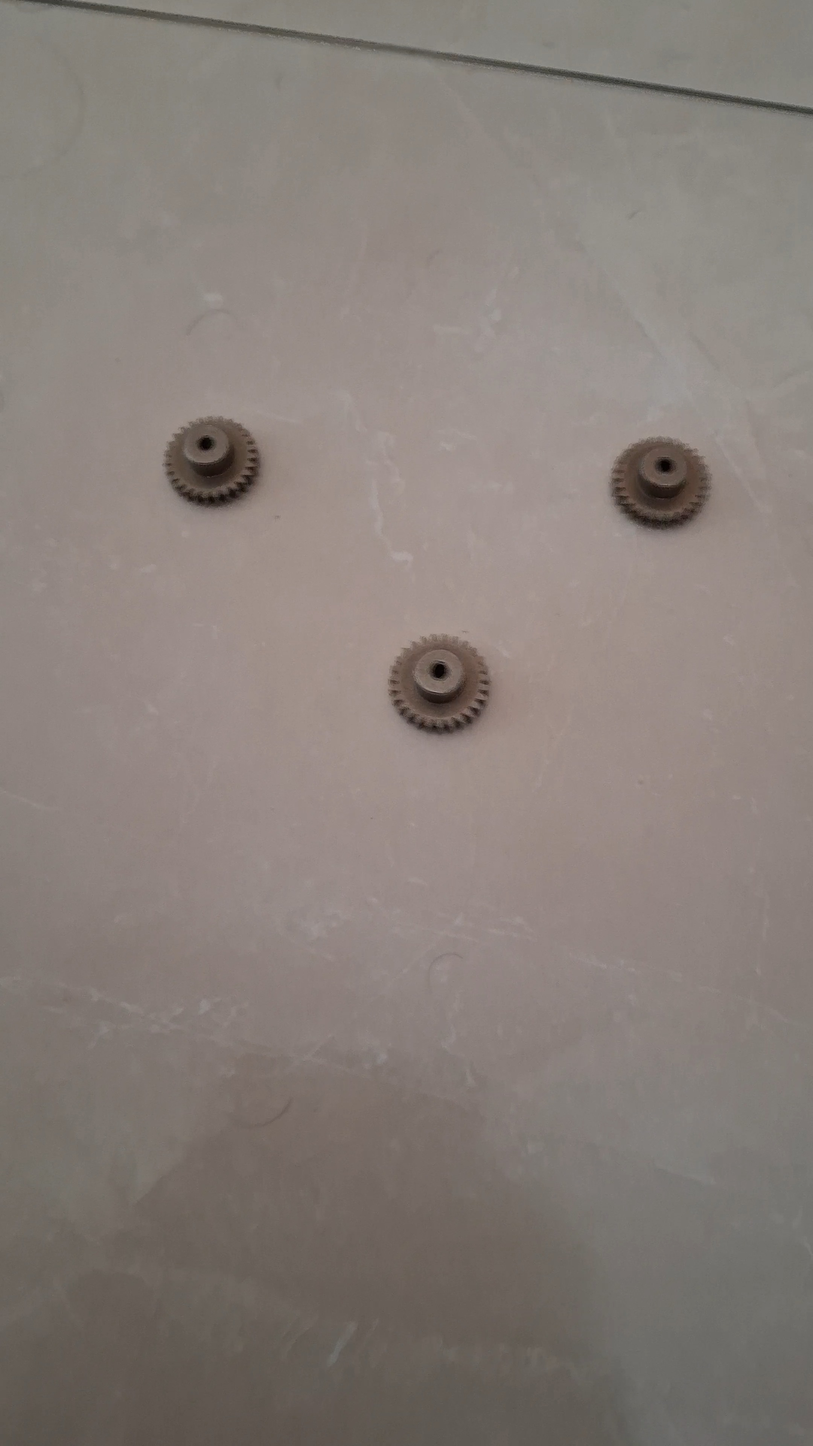spur gear: (389, 635, 490, 731), (611, 438, 708, 525), (164, 418, 258, 505)
